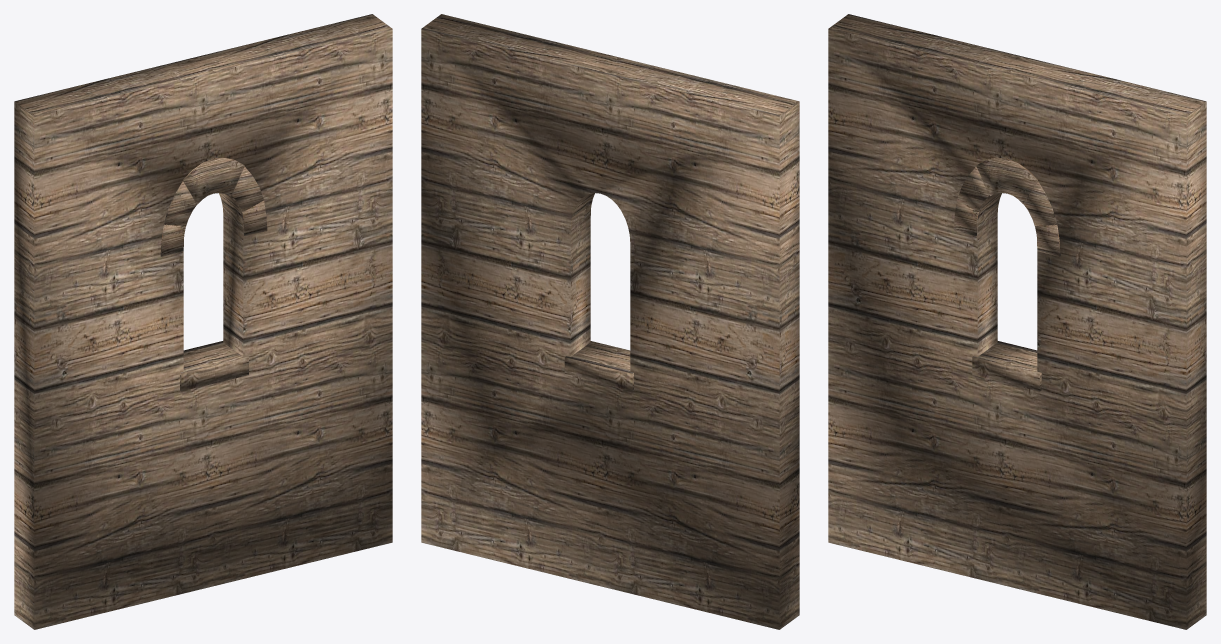
File: wood window2.glb
3 views of the same model, side by side, from view 1: azimuth 30°, elevation 25°; view 2: azimuth 150°, elevation 25°; view 3: azimuth 330°, elevation 25° (orthographic).
Parts seen in each view (by area): view 1: Arch Window Wall.002; view 2: Arch Window Wall.002; view 3: Arch Window Wall.002.
Part boxes in pixels (x1,y1,x2,y2): Arch Window Wall.002: [14, 14, 392, 629]; Arch Window Wall.002: [421, 14, 799, 629]; Arch Window Wall.002: [828, 14, 1206, 629].
Bounding box in the file's own units: 2 × 2.74 × 0.225.
2 materials, 2 textured.
